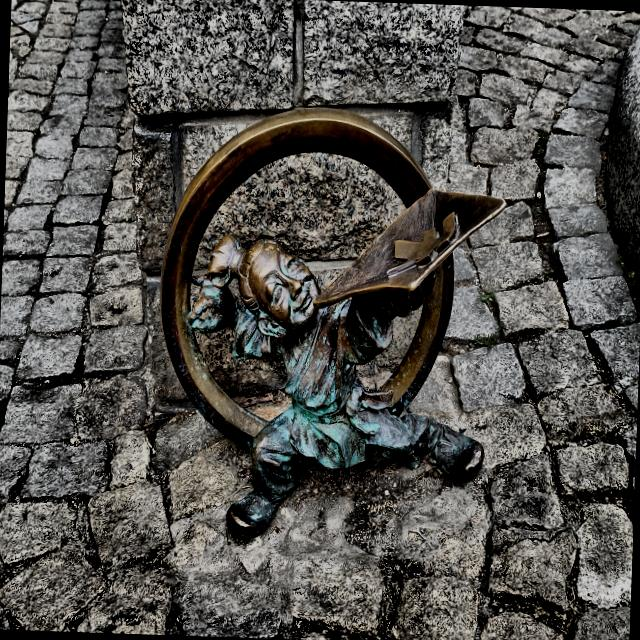TianTian: (160, 108, 505, 538)
